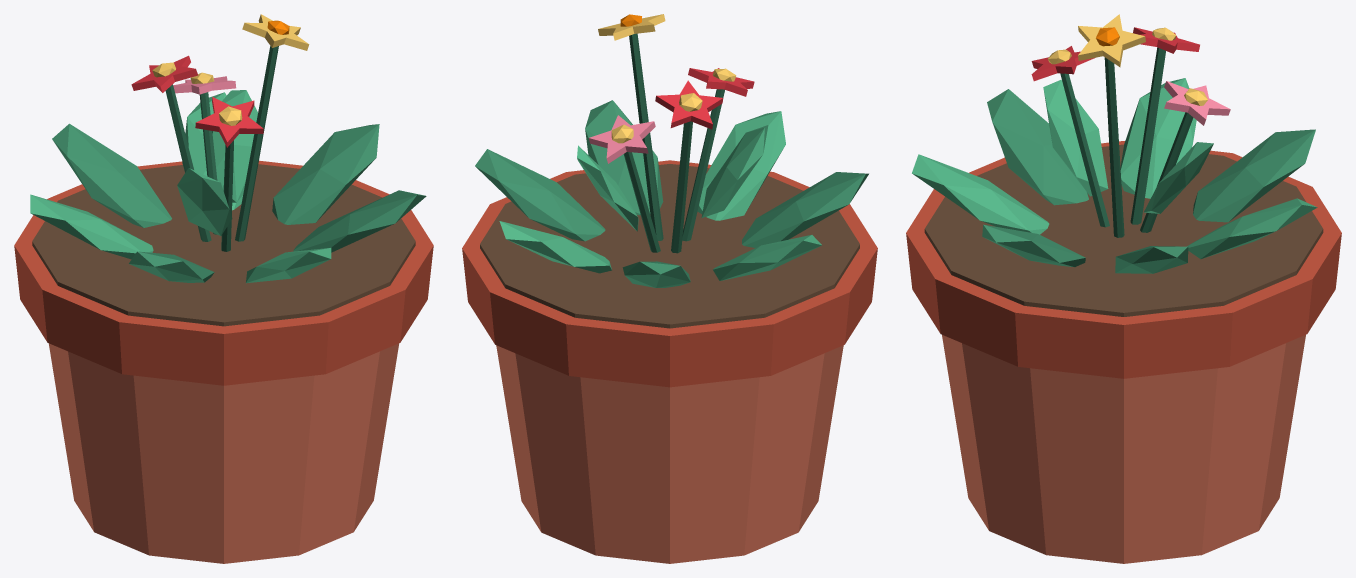
File: flower_pot.glb
The picture shows the model from 3 angles, left to right: view 1: azimuth 30°, elevation 25°; view 2: azimuth 150°, elevation 25°; view 3: azimuth 270°, elevation 25°; orthographic projection. The views are drawn at different scales.
Parts seen in each view (by area): view 1: Cone, Cylinder, Cone.001, Icosphere, Icosphere.002, Icosphere.006, Icosphere.003, Icosphere.008, Icosphere.007, Cone.003, Icosphere.005, Icosphere.004 (+8 smaller); view 2: Cone, Cylinder, Cone.001, Icosphere, Icosphere.004, Icosphere.005, Icosphere.006, Icosphere.008, Icosphere.001, Icosphere.003, Cone.003, Icosphere.007 (+8 smaller); view 3: Cone, Cylinder, Cone.001, Icosphere.004, Icosphere.002, Icosphere.005, Icosphere.003, Icosphere.008, Icosphere.001, Icosphere.006, Cone.002, Cone.003 (+8 smaller).
Boxes of the visible parts, x1=… form: Cone: x1=48, y1=343, x2=399, y2=563; Cylinder: x1=32, y1=164, x2=415, y2=326; Cone.001: x1=14, y1=160, x2=433, y2=385; Icosphere: x1=272, y1=124, x2=379, y2=224; Icosphere.002: x1=52, y1=123, x2=171, y2=227; Icosphere.006: x1=293, y1=190, x2=426, y2=252; Icosphere.003: x1=30, y1=194, x2=153, y2=259; Icosphere.008: x1=177, y1=168, x2=232, y2=235; Icosphere.007: x1=212, y1=90, x2=257, y2=202; Cone.003: x1=235, y1=46, x2=278, y2=241; Icosphere.005: x1=246, y1=247, x2=331, y2=283; Icosphere.004: x1=129, y1=251, x2=214, y2=282; Cone: x1=496, y1=345, x2=843, y2=563; Cylinder: x1=480, y1=164, x2=859, y2=328; Cone.001: x1=462, y1=160, x2=877, y2=387; Icosphere: x1=475, y1=149, x2=605, y2=241; Icosphere.004: x1=742, y1=172, x2=868, y2=247; Icosphere.005: x1=697, y1=111, x2=785, y2=220; Icosphere.006: x1=585, y1=100, x2=663, y2=215; Icosphere.008: x1=701, y1=125, x2=768, y2=217; Icosphere.001: x1=499, y1=221, x2=611, y2=273; Icosphere.003: x1=713, y1=235, x2=821, y2=280; Cone.003: x1=629, y1=33, x2=663, y2=240; Icosphere.007: x1=577, y1=145, x2=638, y2=231; Cone: x1=942, y1=335, x2=1305, y2=563; Cylinder: x1=924, y1=144, x2=1323, y2=316; Cone.001: x1=906, y1=141, x2=1341, y2=378; Icosphere.004: x1=987, y1=89, x2=1088, y2=205; Icosphere.002: x1=1193, y1=129, x2=1315, y2=222; Icosphere.005: x1=912, y1=154, x2=1049, y2=234; Icosphere.003: x1=1120, y1=78, x2=1196, y2=198; Icosphere.008: x1=1043, y1=79, x2=1108, y2=196; Icosphere.001: x1=1187, y1=198, x2=1317, y2=258; Icosphere.006: x1=982, y1=224, x2=1085, y2=267; Cone.002: x1=1130, y1=47, x2=1165, y2=224; Cone.003: x1=1104, y1=57, x2=1124, y2=237.
Bounding box in the file's own units: 28 × 34.98 × 28.
